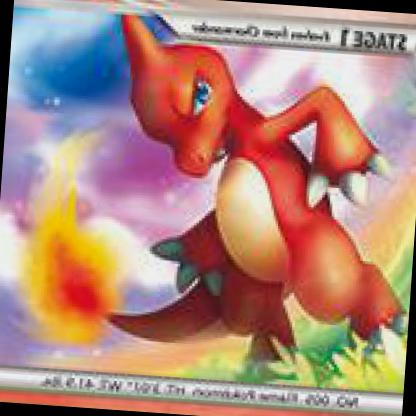Glutexo: (0, 0, 409, 415)
